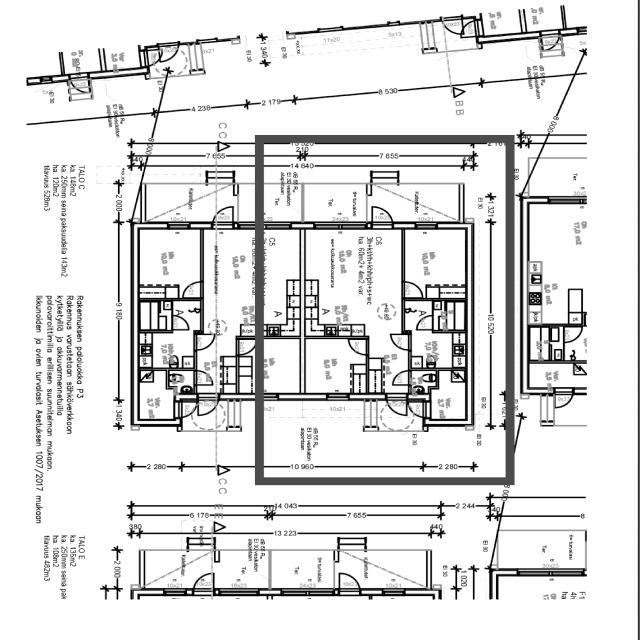door: (406, 302, 434, 334), (171, 301, 198, 332), (369, 204, 394, 227), (383, 396, 408, 417), (196, 396, 219, 417), (338, 571, 362, 591), (400, 279, 424, 299), (553, 388, 575, 408), (346, 337, 369, 356), (539, 32, 560, 52), (389, 332, 411, 351), (192, 572, 214, 591), (194, 332, 215, 351), (407, 400, 428, 419), (181, 280, 203, 298), (212, 206, 234, 224), (176, 401, 198, 419), (414, 313, 435, 331), (69, 76, 90, 94), (170, 314, 190, 331), (390, 370, 410, 387), (194, 369, 214, 386)
window: (313, 220, 364, 232), (545, 195, 584, 206), (217, 588, 259, 598), (279, 588, 314, 598), (413, 220, 439, 230), (380, 588, 406, 597), (160, 588, 186, 597), (325, 392, 350, 401), (261, 32, 288, 40), (165, 221, 190, 229), (169, 70, 193, 78)
zone: (526, 204, 621, 326), (303, 228, 403, 336), (135, 227, 204, 298), (402, 227, 467, 296), (418, 332, 468, 421), (302, 337, 367, 396), (270, 550, 336, 590), (261, 338, 301, 397), (214, 550, 269, 592), (137, 370, 180, 422), (409, 331, 467, 369), (137, 331, 195, 368), (430, 369, 467, 423), (526, 362, 580, 388), (480, 5, 524, 36), (523, 2, 564, 32), (528, 326, 561, 362), (100, 46, 144, 72), (402, 300, 436, 332), (137, 300, 172, 331), (432, 300, 466, 331), (64, 49, 103, 73), (170, 300, 200, 331), (561, 325, 584, 361), (409, 369, 437, 396), (166, 369, 195, 394)
